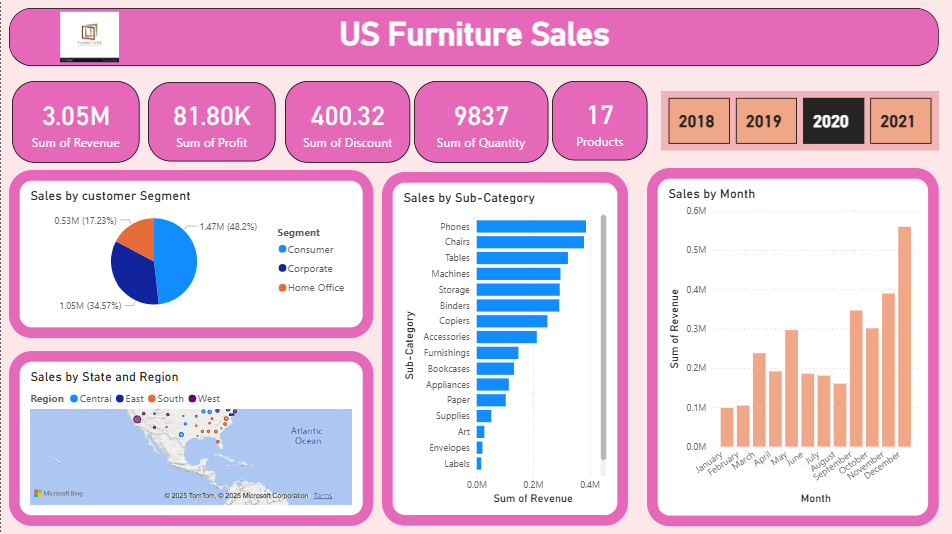

The page's visual inventory and layout, read from the dashboard file:
{"tool":"powerbi","page":{"name":"US Furniture","canvas":[1280,720],"ordinal":0},"visuals":[{"type":"textbox","title":"US Furniture Sales","box":[10.1,0,1236.3,107.5],"z":0},{"type":"image","box":[10.1,0,300.7,107.5],"z":1000},{"type":"card","fields":{"Values":["Sum(Orders.Profit)"]},"box":[193,128.2,167,103.7],"z":2000},{"type":"card","fields":{"Values":["Sum(Orders.Discount)"]},"box":[371.5,126.7,164.2,106.6],"z":3000},{"type":"card","fields":{"Values":["Orders.DistinctProd"]},"box":[721.4,126.7,125.3,103.7],"z":4000},{"type":"card","fields":{"Values":["Sum(Orders.Quantity)"]},"box":[540,126.7,175.7,106.6],"z":5000},{"type":"pieChart","title":"Sales by customer Segment","fields":{"Category":["Orders.Segment"],"Y":["Sum(Orders.Revenue)"]},"box":[10.1,243.4,476.6,220.3],"z":6000},{"type":"map","title":"Sales by State and Region","fields":{"Series":["Orders.Region"],"Size":["Sum(Orders.Revenue)"],"Category":["Orders.State"]},"box":[10.1,478.5,476.6,240.5],"z":7000},{"type":"clusteredBarChart","title":"Sales by Sub-Category","fields":{"Category":["Orders.Sub-Category"],"Y":["Sum(Orders.Revenue)"]},"box":[509.8,243.4,321.1,475.2],"z":8000},{"type":"clusteredColumnChart","title":"Sales by Month","fields":{"Y":["Sum(Orders.Revenue)"],"Category":["Orders.Order Date.Variation.Date Hierarchy.Month"]},"box":[846.7,243.4,398.9,475.2],"z":9000},{"type":"card","fields":{"Values":["Sum(Orders.Revenue)"]},"box":[14.4,126.7,167,106.6],"z":10000},{"type":"advancedSlicerVisual","fields":{"Values":["Orders.Order Date.Variation.Date Hierarchy.Year"]},"box":[864,139.7,364.3,77.8],"z":10001}]}

Visuals, with their boxes in screenshot pixels (x1, y1, x2, y2), scaled from the page's 1280x720 canvas onto the 952x534 screenshot:
"US Furniture Sales" textbox: 8 0 927 80
image: 8 0 231 80
card - Sum(Orders.Profit): 144 95 268 172
card - Sum(Orders.Discount): 276 94 398 173
card - Orders.DistinctProd: 537 94 630 171
card - Sum(Orders.Quantity): 402 94 532 173
"Sales by customer Segment" pieChart: 8 181 362 344
"Sales by State and Region" map: 8 355 362 533
"Sales by Sub-Category" clusteredBarChart: 379 181 618 533
"Sales by Month" clusteredColumnChart: 630 181 926 533
card - Sum(Orders.Revenue): 11 94 135 173
advancedSlicerVisual - Orders.Order Date.Variation.Date Hierarchy.Year: 643 104 914 161
